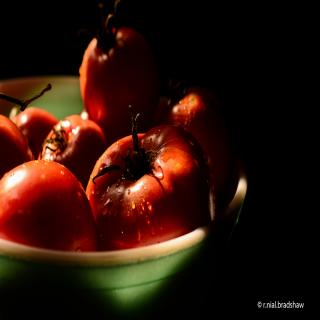tomato: (91, 118, 214, 248)
